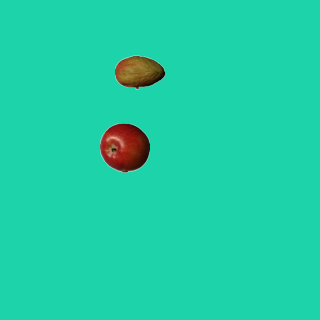Apple Braeburn: (99, 122, 149, 172)
Papaya: (114, 47, 164, 97)
